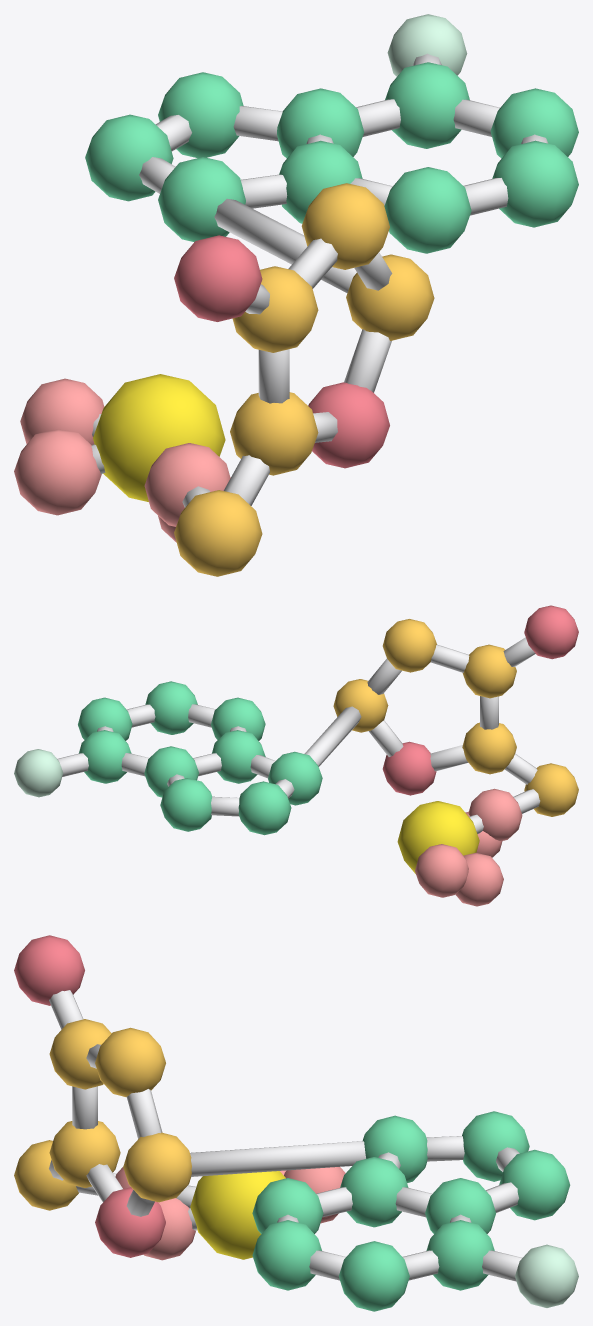
File: Nucleotide.glb
3 views of the same model, one above another, from view 1: azimuth 30°, elevation 25°; view 2: azimuth 150°, elevation 25°; view 3: azimuth 270°, elevation 25° (orthographic). The views are drawn at different scales.
Parts seen in each view (by area): view 1: Base_A_Ring, Sugar_Carbon, Phosphate_Oxygen, Base_A_Bonds, Sugar_Oxygen, Phosphate_Phosphorus, Sugar_Bonds, Base_A_Edge; view 2: Base_A_Ring, Sugar_Carbon, Phosphate_Oxygen, Base_A_Bonds, Sugar_Bonds, Sugar_Oxygen, Phosphate_Phosphorus, Base_A_Edge, Phosphate_Bonds; view 3: Base_A_Ring, Sugar_Carbon, Base_A_Bonds, Sugar_Oxygen, Phosphate_Phosphorus, Sugar_Bonds, Phosphate_Oxygen, Base_A_Edge, Phosphate_Bonds.
Boxes of the visible parts, bbox=[...] form: Base_A_Ring: bbox=[85, 62, 578, 253]; Sugar_Carbon: bbox=[174, 183, 434, 576]; Phosphate_Oxygen: bbox=[14, 378, 230, 542]; Base_A_Bonds: bbox=[139, 53, 548, 293]; Sugar_Oxygen: bbox=[174, 235, 389, 468]; Phosphate_Phosphorus: bbox=[93, 374, 225, 501]; Sugar_Bonds: bbox=[223, 238, 392, 505]; Base_A_Edge: bbox=[387, 14, 467, 76]; Base_A_Ring: bbox=[78, 681, 322, 835]; Sugar_Carbon: bbox=[333, 619, 578, 816]; Phosphate_Oxygen: bbox=[415, 788, 522, 906]; Base_A_Bonds: bbox=[57, 704, 361, 816]; Sugar_Bonds: bbox=[367, 637, 537, 784]; Sugar_Oxygen: bbox=[382, 605, 578, 795]; Phosphate_Phosphorus: bbox=[397, 801, 479, 873]; Base_A_Edge: bbox=[14, 749, 63, 797]; Phosphate_Bonds: bbox=[469, 789, 540, 833]; Base_A_Ring: bbox=[252, 1111, 570, 1311]; Sugar_Carbon: bbox=[14, 1019, 191, 1210]; Base_A_Bonds: bbox=[190, 1136, 522, 1281]; Sugar_Oxygen: bbox=[14, 935, 165, 1257]; Phosphate_Phosphorus: bbox=[190, 1171, 285, 1259]; Sugar_Bonds: bbox=[49, 990, 162, 1216]; Phosphate_Oxygen: bbox=[115, 1167, 345, 1260]; Base_A_Edge: bbox=[515, 1244, 578, 1307]; Phosphate_Bonds: bbox=[76, 1173, 197, 1230].
Bounding box in the file's own units: 0.0802 × 0.0463 × 0.0794.
